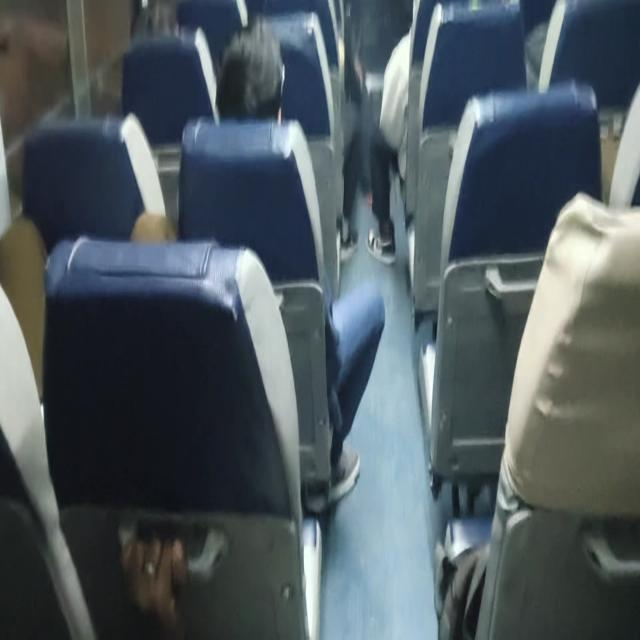person: (219, 28, 293, 136), (126, 0, 186, 39), (303, 0, 358, 41)
